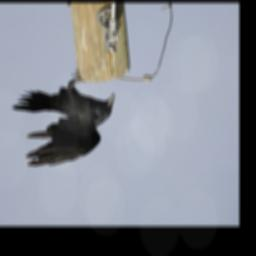Crow: (9, 71, 116, 168)
